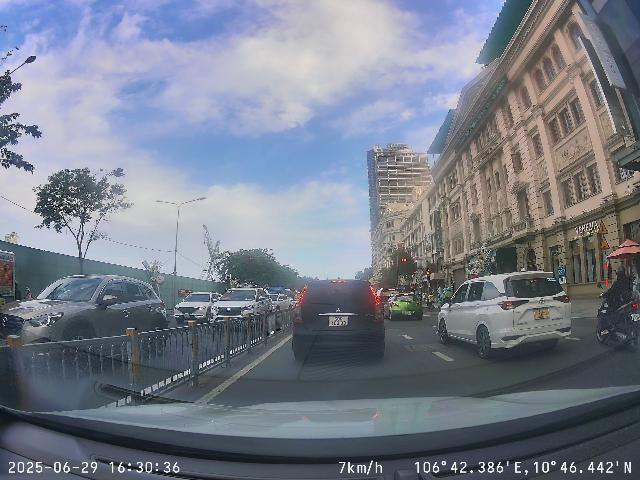221-duong-go-ghe: (600, 236, 610, 250)
224-duong-nguoi-di-bo-cat-ngang: (598, 220, 608, 234)
